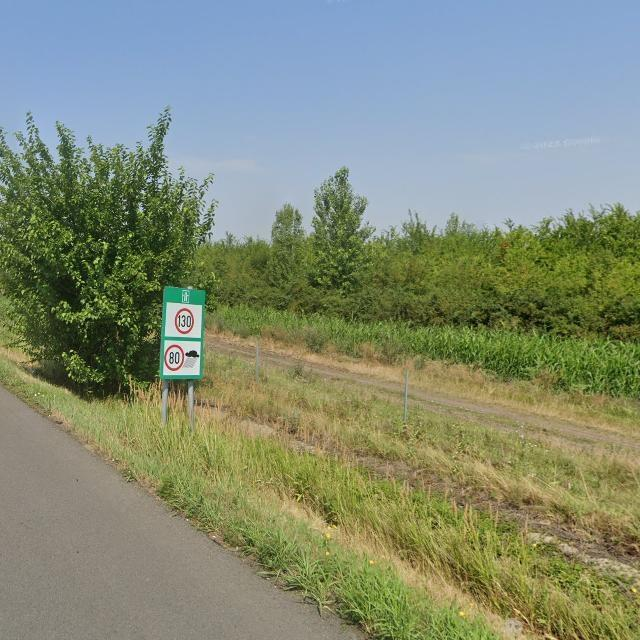forb_speed_over_80: (165, 344, 185, 371)
